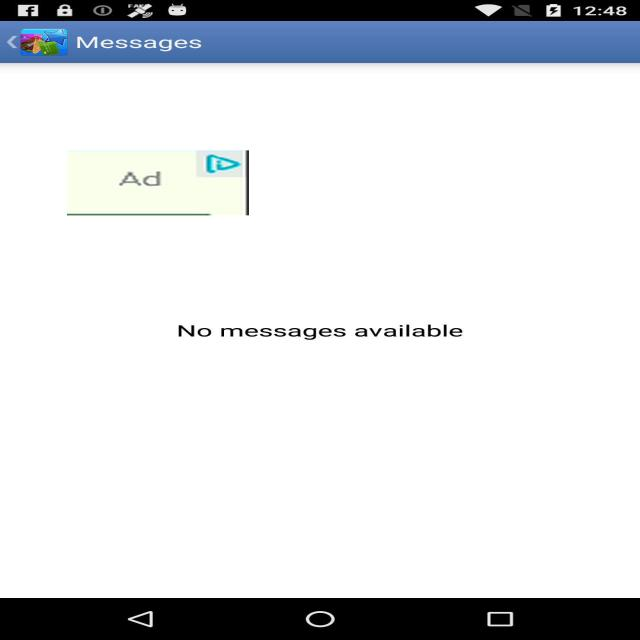sneaking: (67, 150, 249, 216)
